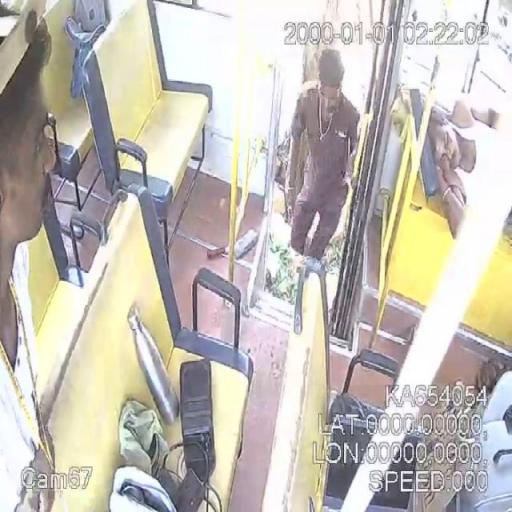persona: (0, 8, 62, 510), (284, 47, 362, 272), (425, 98, 498, 240)
